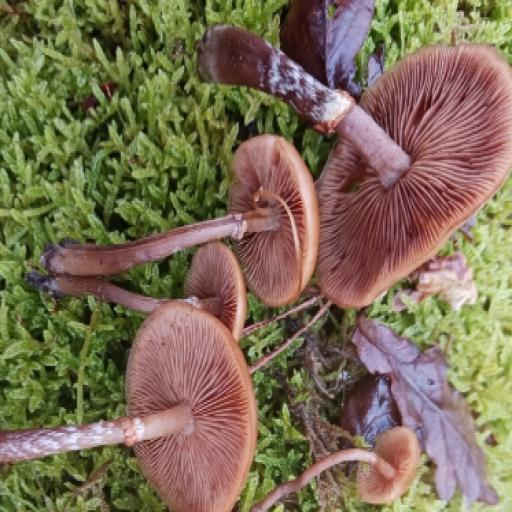mushroom: (173, 4, 512, 301), (20, 295, 259, 512)
